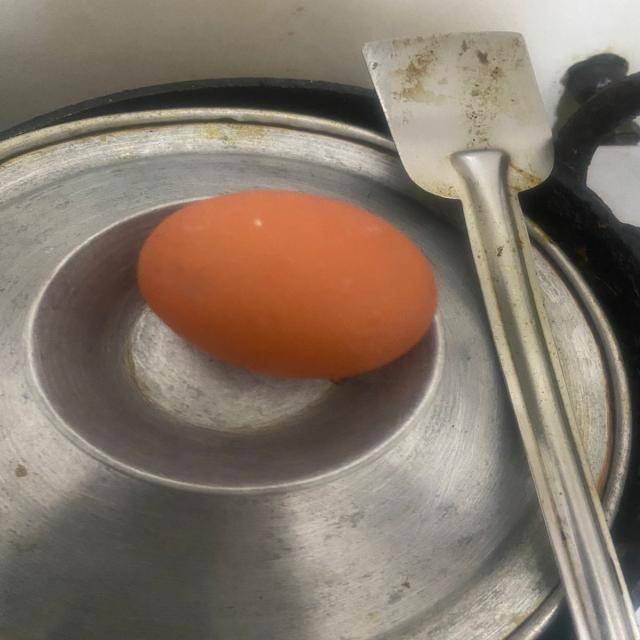egg: (137, 183, 447, 381)
